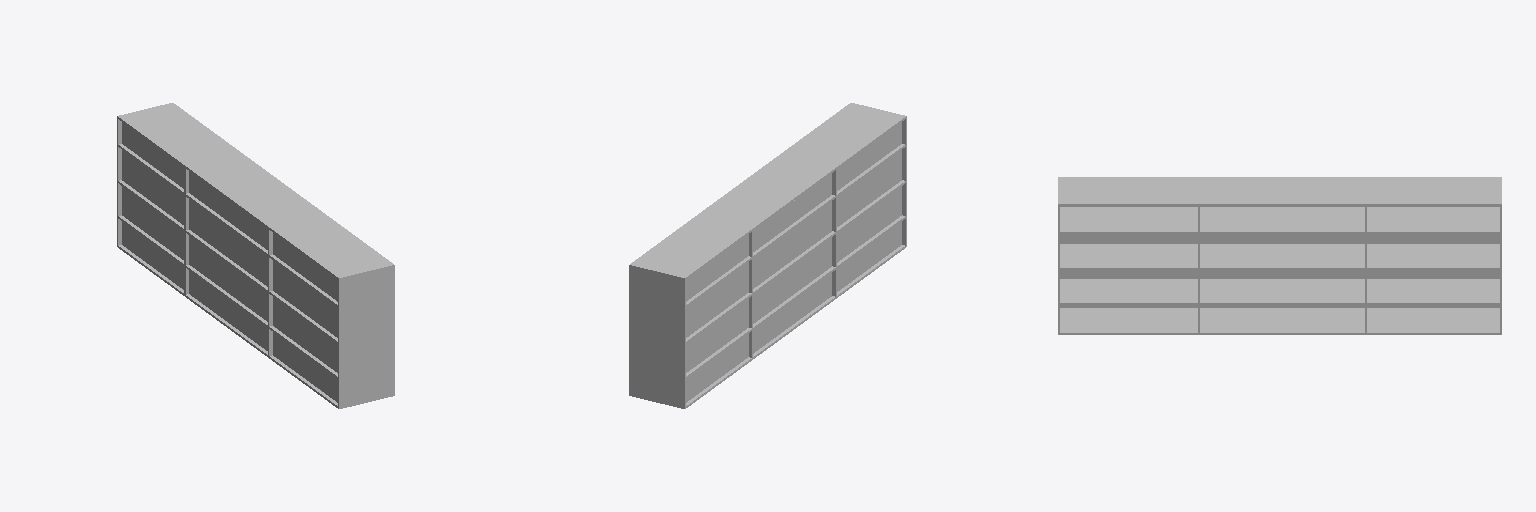
Rendered from mueble2.obj.
3 renders of one model, left to right at view 1: azimuth 30°, elevation 25°; view 2: azimuth 150°, elevation 25°; view 3: azimuth 270°, elevation 25°, orthographic.
Visible parts, largest first — view 1: group260 group252 group250 group251 mueble2:group191group186grou, mueble2:group190group191group186group178group179group180group181, group260 group252 group250 group251 mueble2:pasted__pasted__past, group260 group252 group250 group251 mueble2:group190group191grou, group252 group250 group251 mueble2:group190group191group186group; view 2: group260 group252 group250 group251 mueble2:group191group186grou, mueble2:group190group191group186group178group179group180group181, group252 group250 group251 mueble2:group190group191group186group, group260 group252 group250 group251 mueble2:group190group191grou, group260 group252 group250 group251 mueble2:pasted__pasted__past; view 3: group260 group252 group250 group251 mueble2:group190group191grou, mueble2:group190group191group186group178group179group180group181, group260 group252 group250 group251 mueble2:group191group186grou.
Part boxes in pixels (x1,y1,x2,y2): group260 group252 group250 group251 mueble2:group191group186grou: (122,122,337,402); mueble2:group190group191group186group178group179group180group181: (117,103,393,279); group260 group252 group250 group251 mueble2:pasted__pasted__past: (338,265,394,408); group260 group252 group250 group251 mueble2:group190group191grou: (117,144,392,408); group252 group250 group251 mueble2:group190group191group186group: (117,105,160,245); group260 group252 group250 group251 mueble2:group191group186grou: (686,122,901,402); mueble2:group190group191group186group178group179group180group181: (630,103,906,279); group252 group250 group251 mueble2:group190group191group186group: (629,265,685,408); group260 group252 group250 group251 mueble2:group190group191grou: (632,144,906,408); group260 group252 group250 group251 mueble2:pasted__pasted__past: (902,119,906,245); group260 group252 group250 group251 mueble2:group190group191grou: (1058,204,1500,334); mueble2:group190group191group186group178group179group180group181: (1058,177,1501,205); group260 group252 group250 group251 mueble2:group191group186grou: (1060,206,1499,307).
Size of the model in its own units: 1.69 by 3.79 by 11.63.